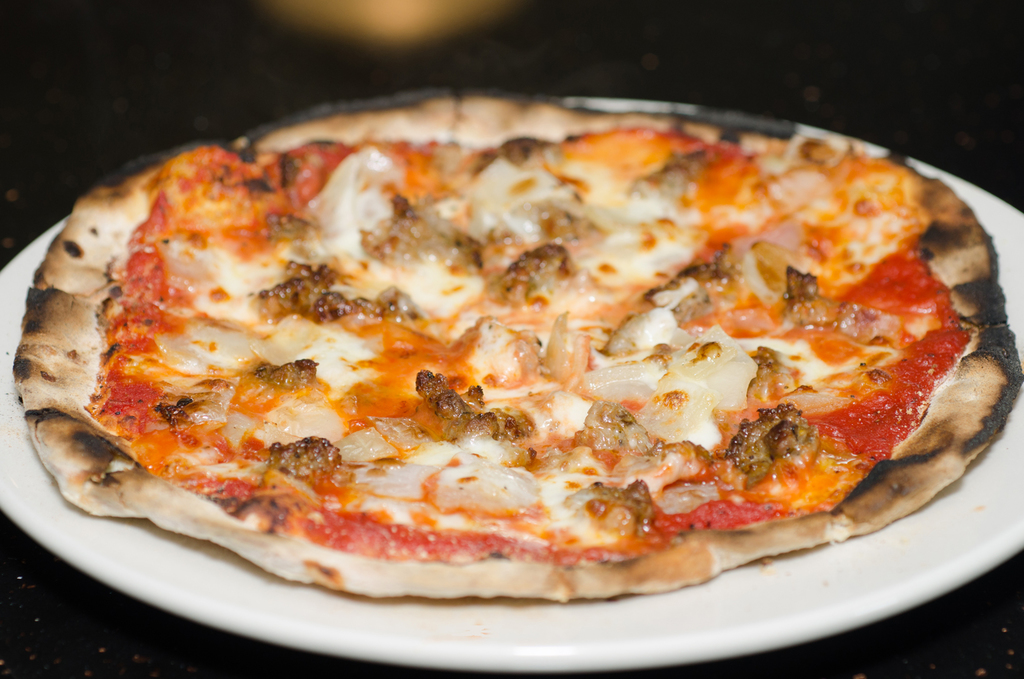Pizza: (16, 86, 1023, 605)
